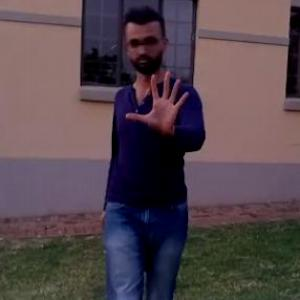follow_hand: (124, 66, 193, 140)
